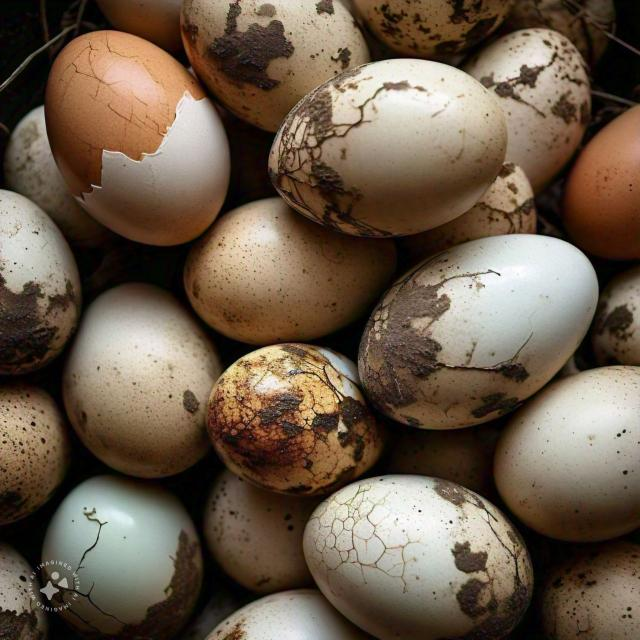Dirt Stained Egg: (25, 34, 246, 262), (336, 234, 592, 392), (278, 80, 543, 218), (309, 482, 531, 640), (195, 316, 386, 484), (39, 461, 194, 640), (0, 167, 89, 391), (0, 371, 56, 554)
